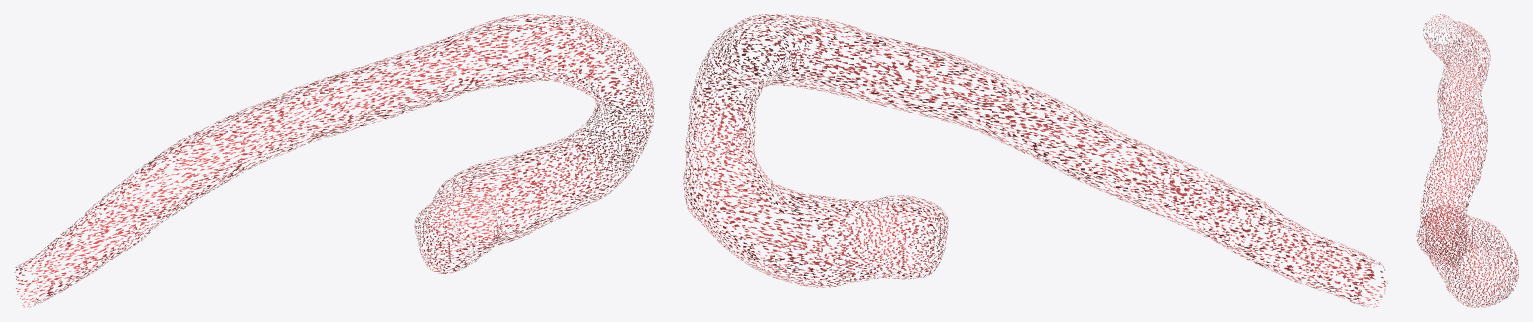
File: aorta.glb
3 renders of one model, left to right at view 1: azimuth 30°, elevation 25°; view 2: azimuth 150°, elevation 25°; view 3: azimuth 270°, elevation 25°, orthographic. The views are drawn at different scales.
Size of the model in its own units: 266 by 93.23 by 48.38.
